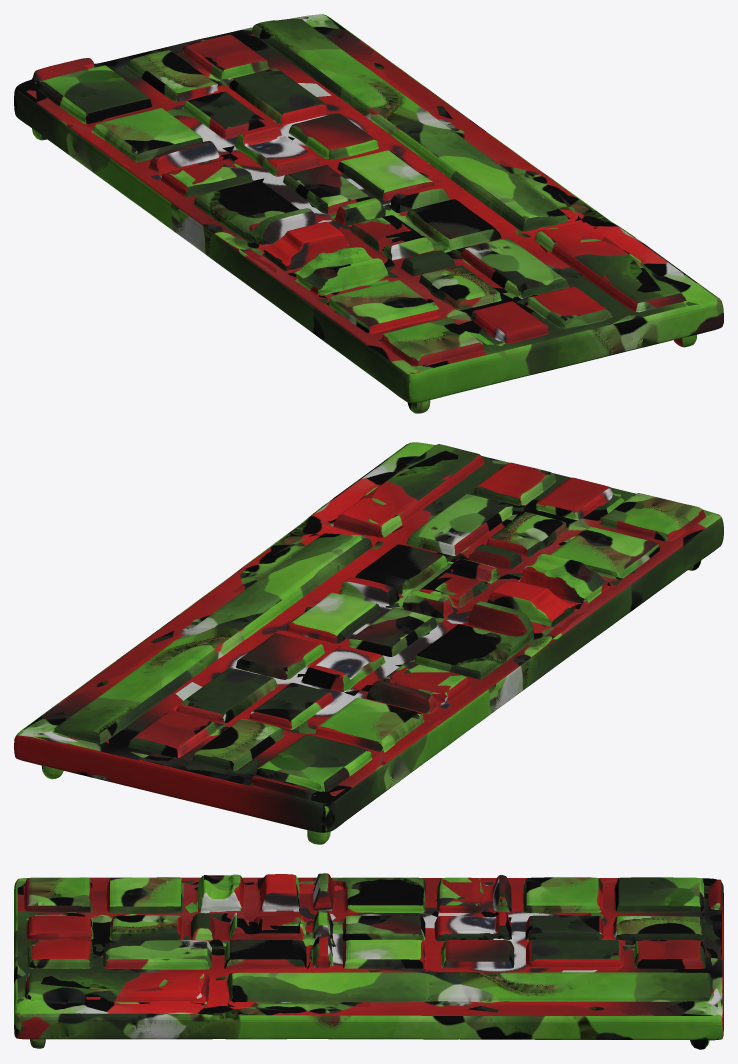
The model's file is sample.obj.
3 renders of one model, top to bottom at view 1: azimuth 30°, elevation 25°; view 2: azimuth 150°, elevation 25°; view 3: azimuth 270°, elevation 25°, orthographic. The views are drawn at different scales.
Size of the model in its own units: 0.2951 by 0.065 by 0.6432.
